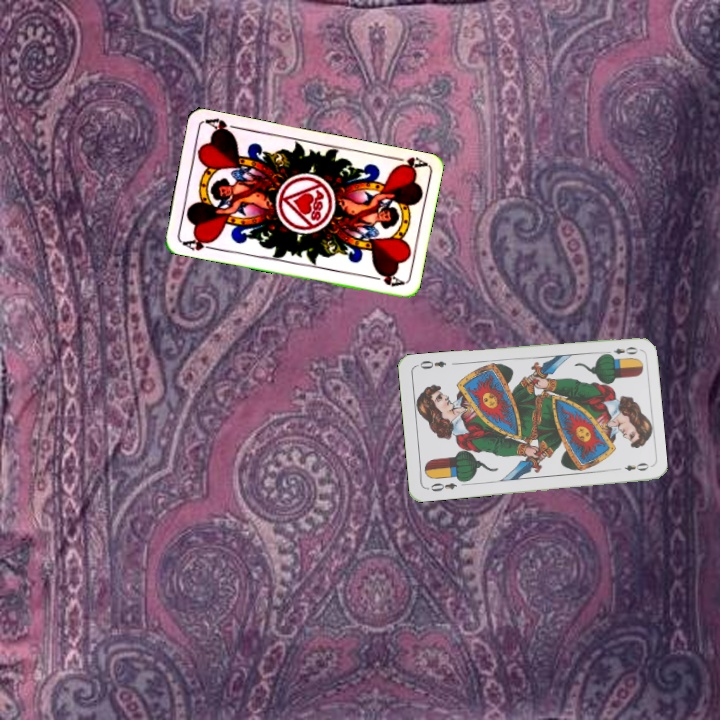EO: (600, 343, 640, 359), (423, 479, 459, 494)
HA: (387, 152, 428, 174), (178, 233, 219, 253)
